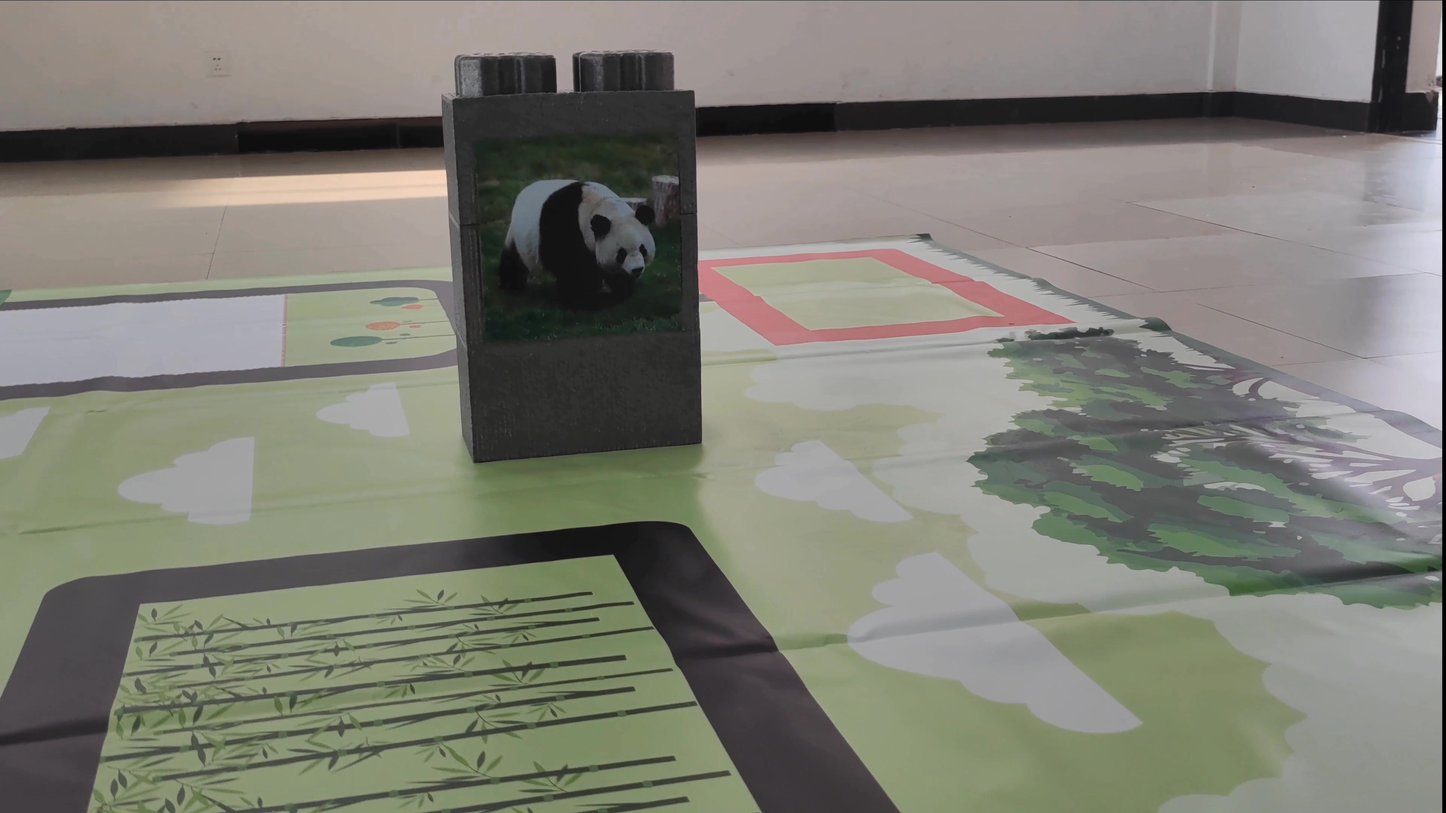panda: (484, 142, 671, 329)
